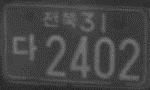0: (93, 35, 115, 79)
1: (100, 12, 108, 34)
2: (118, 36, 141, 82), (45, 33, 67, 77)
3: (79, 11, 96, 31)
4: (68, 35, 91, 78)
다: (12, 32, 37, 62)
전북_O: (43, 11, 78, 29)
